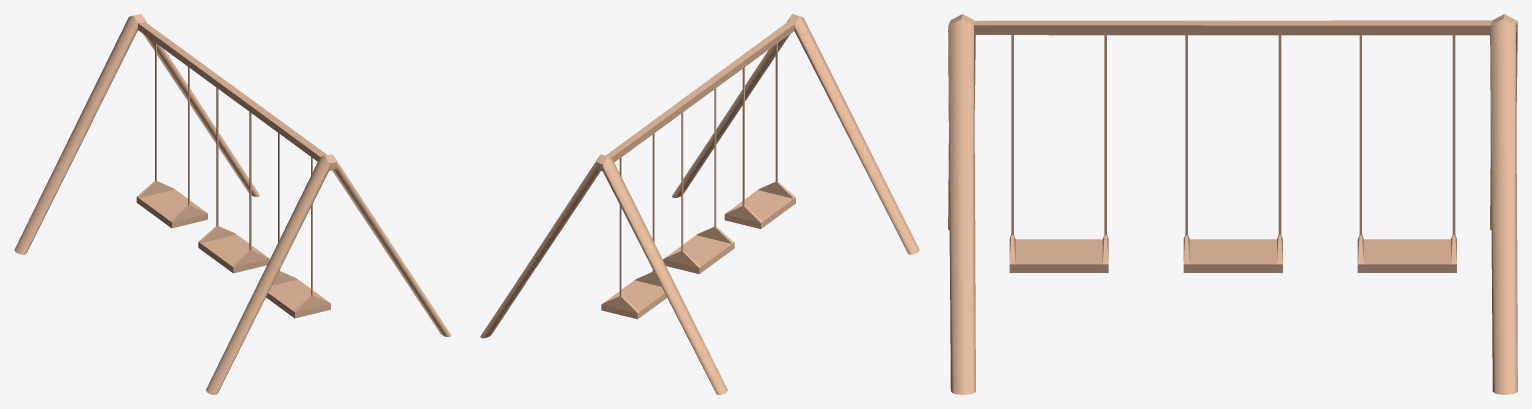
Rendered from Swings.obj.
3 views of the same model, side by side, from view 1: azimuth 30°, elevation 25°; view 2: azimuth 150°, elevation 25°; view 3: azimuth 270°, elevation 25° (orthographic). The views are drawn at different scales.
Parts seen in each view (by area): view 1: Cylinder001; view 2: Cylinder001; view 3: Cylinder001.
Boxes of the visible parts, bbox=[...] form: Cylinder001: bbox=[14, 14, 451, 394]; Cylinder001: bbox=[480, 14, 919, 394]; Cylinder001: bbox=[948, 14, 1517, 394].
Size of the model in its own units: 52.72 by 43.11 by 75.62.
